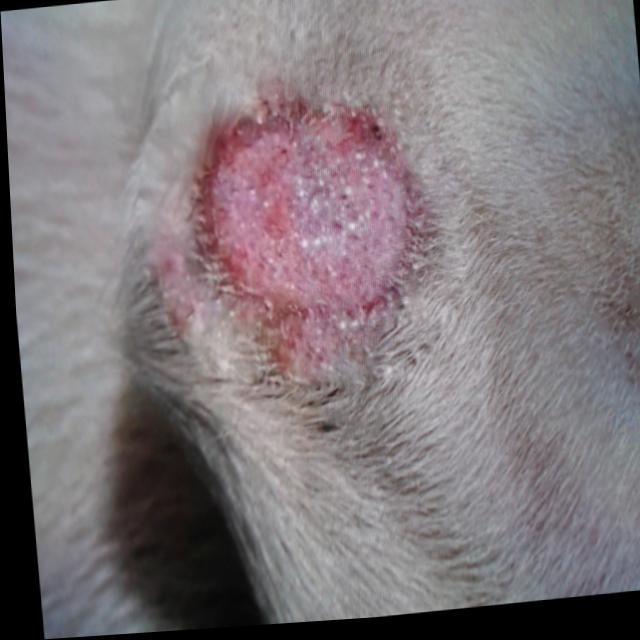ringworm: (156, 20, 467, 427)
